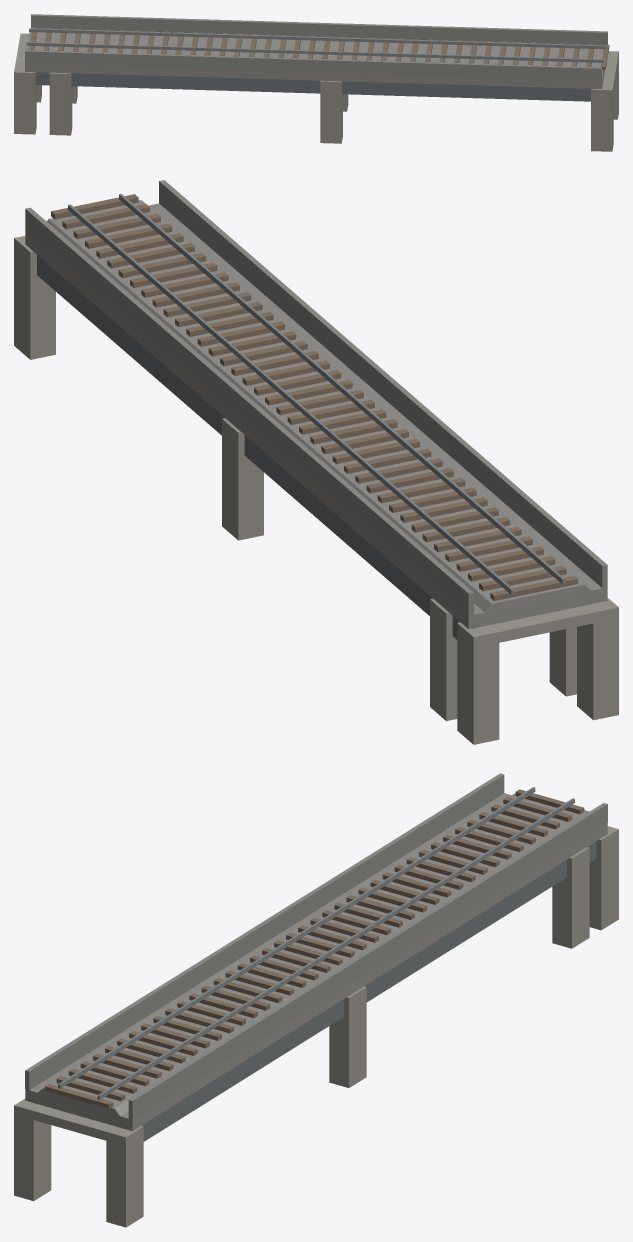
The model's file is rail_01188.glb.
The picture shows the model from 3 angles, top to bottom: view 1: azimuth 30°, elevation 25°; view 2: azimuth 150°, elevation 25°; view 3: azimuth 270°, elevation 25°; orthographic projection. The views are drawn at different scales.
Visible parts, largest first — view 1: BridgeParapets, BridgePiers, BridgeGirders, Ballast, BridgeDeck, Rails, Sleepers; view 2: Sleepers, BridgeParapets, BridgePiers, Ballast, BridgeDeck, BridgeGirders, Rails; view 3: BridgeParapets, Sleepers, BridgePiers, Ballast, BridgeDeck, BridgeGirders, Rails.
Part boxes in pixels (bbox=[...]): BridgeParapets: bbox=[25, 14, 607, 81]; BridgePiers: bbox=[14, 33, 618, 151]; BridgeGirders: bbox=[35, 72, 590, 101]; Ballast: bbox=[26, 32, 603, 76]; BridgeDeck: bbox=[25, 28, 604, 88]; Rails: bbox=[26, 28, 606, 62]; Sleepers: bbox=[28, 27, 609, 69]; Sleepers: bbox=[51, 194, 577, 600]; BridgeParapets: bbox=[25, 180, 607, 615]; BridgePiers: bbox=[14, 236, 618, 744]; Ballast: bbox=[46, 200, 590, 612]; BridgeDeck: bbox=[25, 203, 607, 629]; BridgeGirders: bbox=[37, 255, 603, 639]; Rails: bbox=[68, 194, 564, 594]; BridgeParapets: bbox=[25, 773, 607, 1119]; Sleepers: bbox=[44, 789, 584, 1108]; BridgePiers: bbox=[14, 826, 618, 1227]; Ballast: bbox=[38, 793, 589, 1115]; BridgeDeck: bbox=[25, 793, 607, 1130]; BridgeGirders: bbox=[27, 841, 596, 1141]; Rails: bbox=[58, 787, 574, 1099].
Bounding box in the file's own units: 24.26 × 4 × 18.23.
